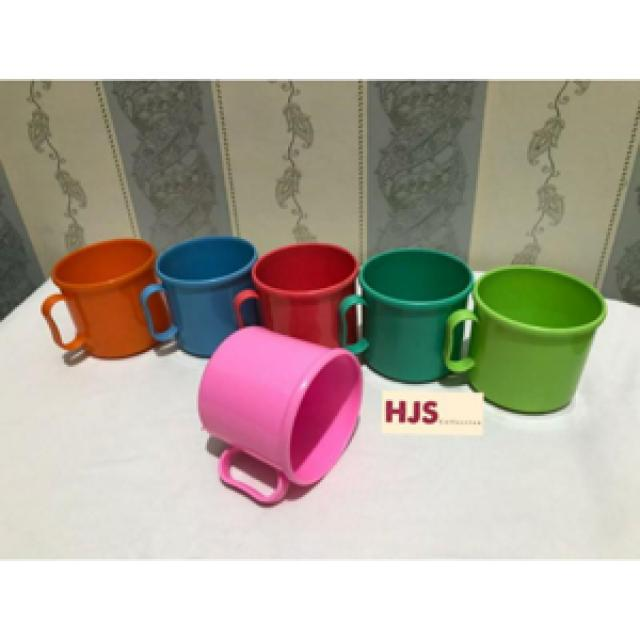plastic cup: (192, 322, 367, 510), (437, 262, 610, 422), (337, 244, 478, 390), (36, 237, 173, 367), (139, 230, 262, 363), (230, 241, 360, 358)
